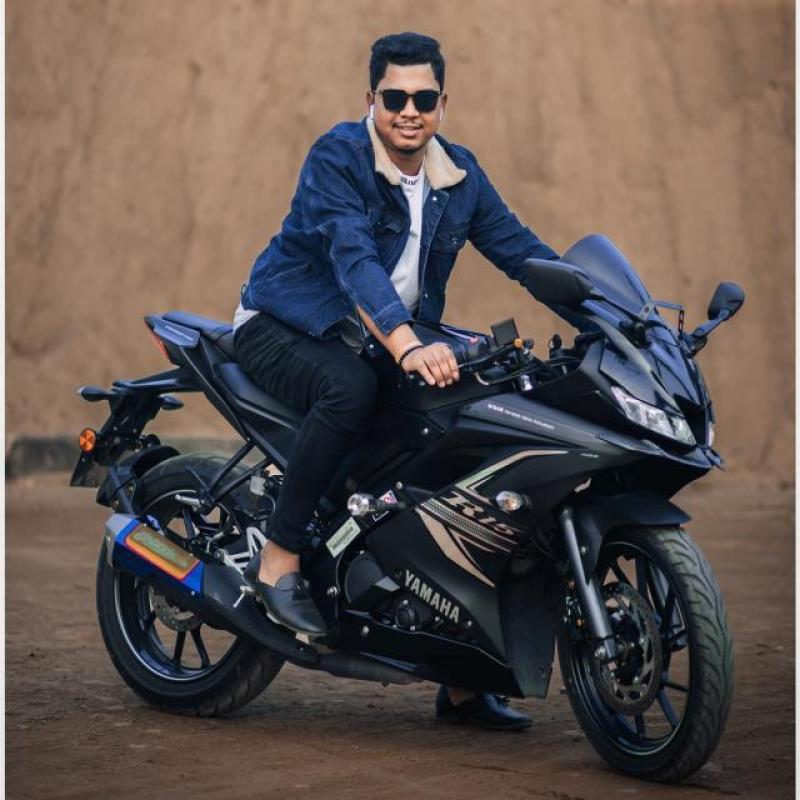nohelmet: (350, 18, 468, 164)
